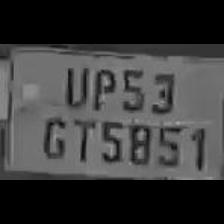1: (184, 121, 208, 169)
3: (147, 67, 177, 113)
5: (117, 64, 147, 112), (94, 116, 124, 164), (153, 120, 183, 168)
8: (125, 118, 152, 166)
G: (38, 112, 68, 160)
P: (88, 64, 116, 110)
T: (69, 114, 94, 164)
U: (59, 61, 89, 109)
